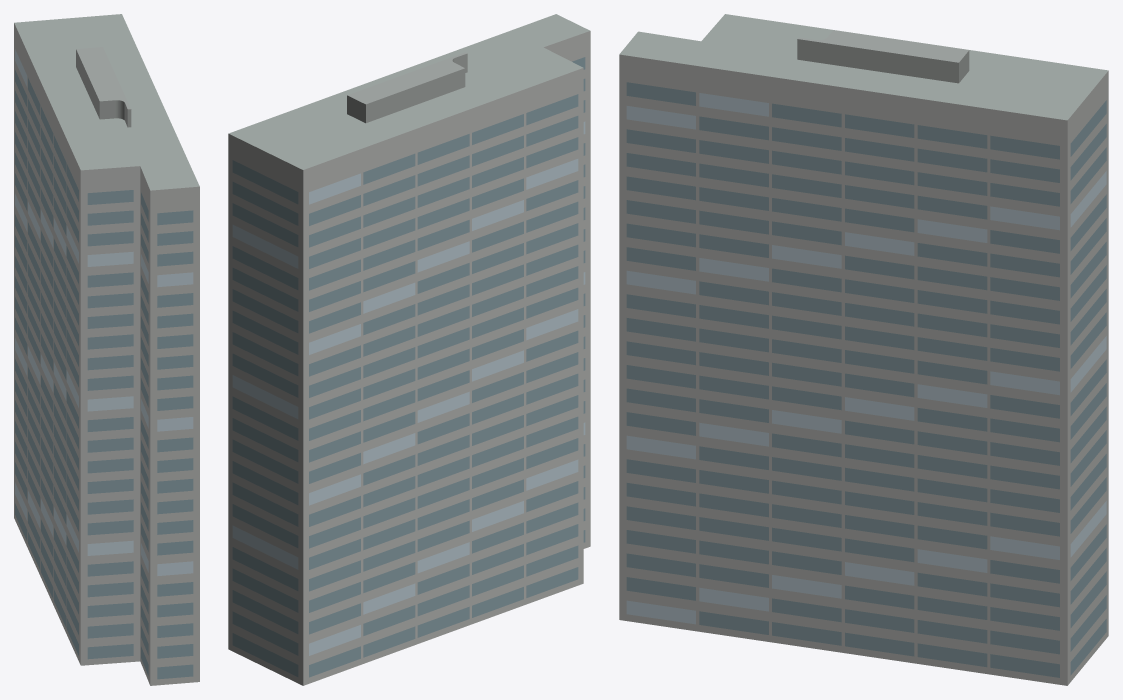
Rendered from fallback-jamsil-els-138.glb.
3 views of the same model, side by side, from view 1: azimuth 30°, elevation 25°; view 2: azimuth 150°, elevation 25°; view 3: azimuth 270°, elevation 25° (orthographic). The views are drawn at different scales.
Visible parts, largest first — view 1: fallback-jamsil-els-138; view 2: fallback-jamsil-els-138; view 3: fallback-jamsil-els-138.
Part boxes in pixels (bbox=[...]): fallback-jamsil-els-138: bbox=[14, 14, 199, 685]; fallback-jamsil-els-138: bbox=[228, 14, 590, 685]; fallback-jamsil-els-138: bbox=[619, 14, 1108, 685].
Bounding box in the file's own units: 26.49 × 68 × 51.46.
